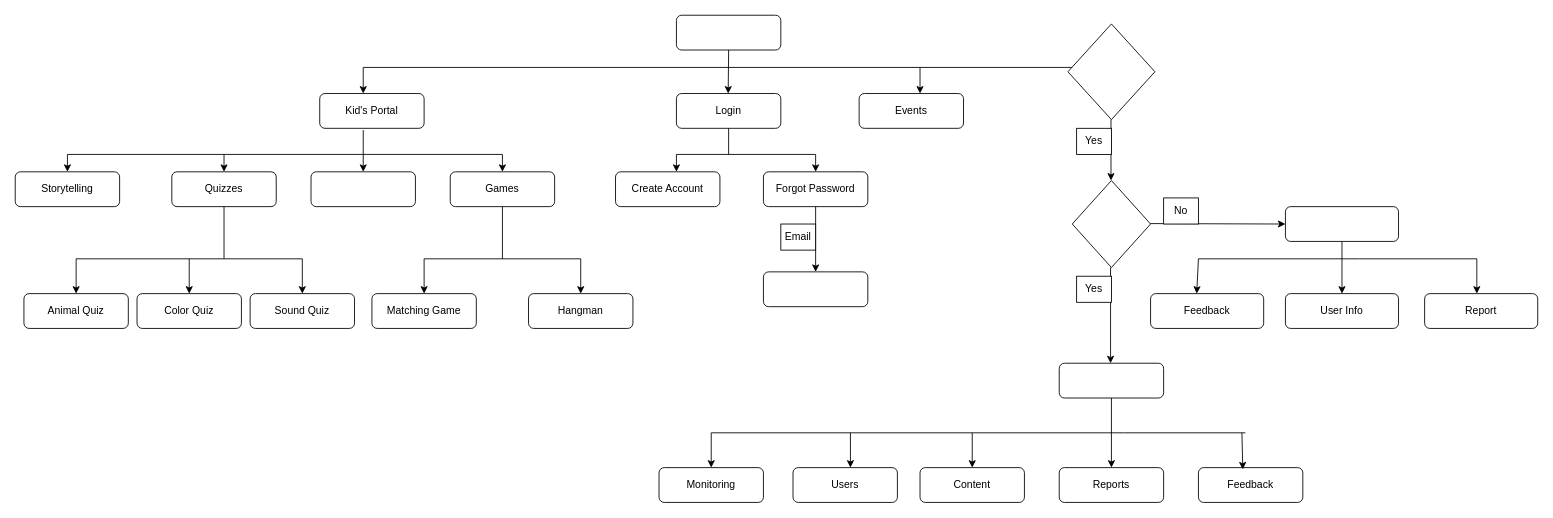
Some shapes in this 1553 by 518 pixel diagram are drawn without their labels. Each missing label, with the box of its shape:
Admin Portal: (1058, 362, 1164, 398)
Admin?: (1071, 180, 1151, 268)
Home: (676, 14, 781, 50)
Logged In?: (1067, 23, 1155, 120)
Music: (310, 171, 415, 207)
Reset Password: (763, 271, 868, 307)
User Portal: (1285, 206, 1399, 241)
